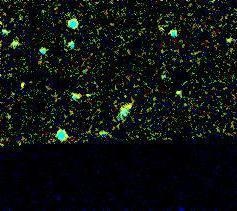star: (64, 82, 94, 112)
